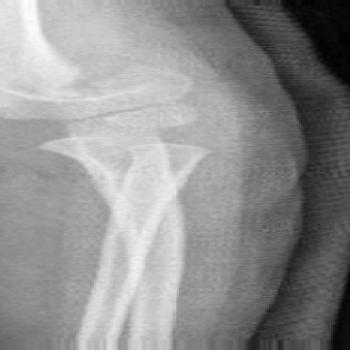Fracture: (34, 132, 228, 168)
